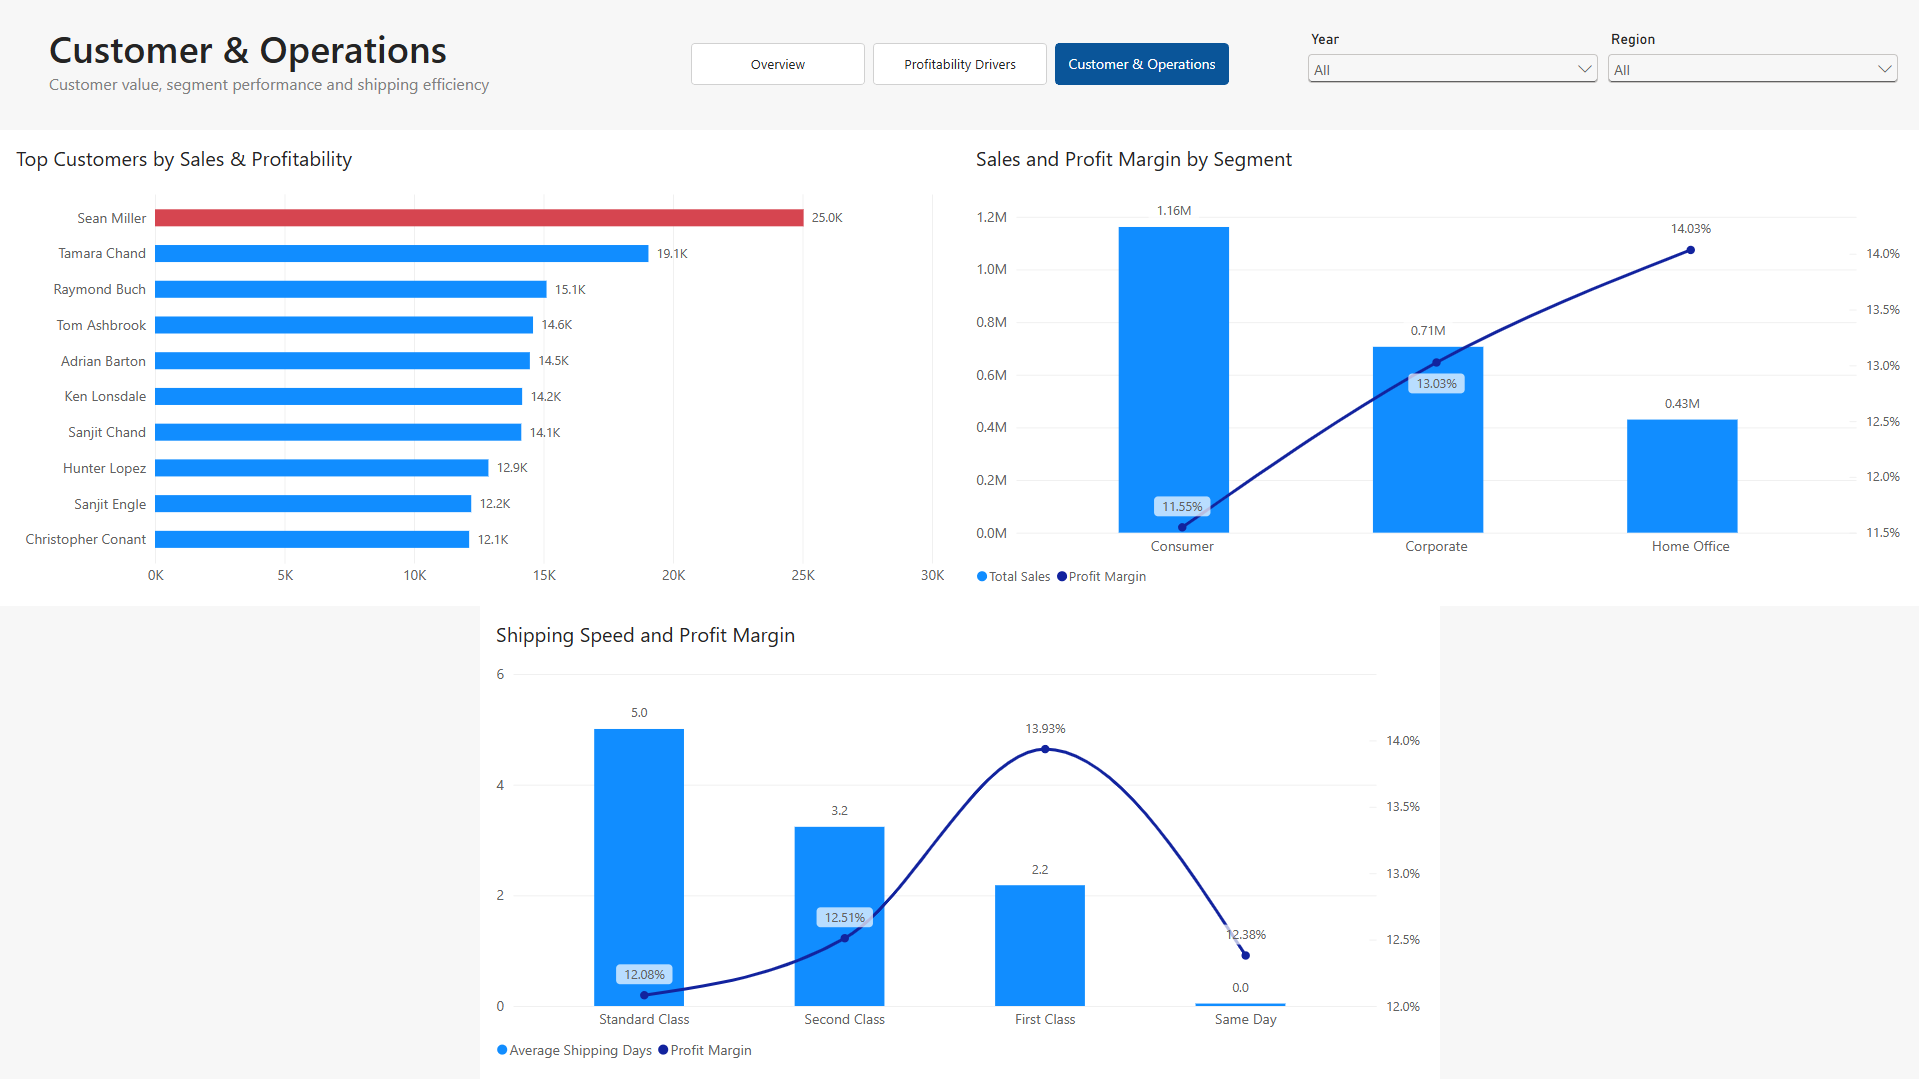

The page's visual inventory and layout, read from the dashboard file:
{"tool":"powerbi","page":{"name":"Customer & Operations","canvas":[1920,1080],"ordinal":2},"visuals":[{"type":"barChart","title":"Top Customers by Sales & Profitability","fields":{"Category":["Sales_Data.Customer_Name"],"Y":["Sales_Data.Total Sales"]},"box":[0,130,960,476],"z":0},{"type":"lineClusteredColumnComboChart","title":"Sales and Profit Margin by Segment","fields":{"Category":["Sales_Data.Segment"],"Y":["Sales_Data.Total Sales"],"Y2":["Sales_Data.Profit Margin"]},"box":[960,130,960,476],"z":1000},{"type":"lineClusteredColumnComboChart","title":"Shipping Speed and Profit Margin","fields":{"Category":["Sales_Data.Ship_Mode"],"Y":["Sales_Data.Average Shipping Days"],"Y2":["Sales_Data.Profit Margin"]},"box":[480,605.6,960,474.4],"z":2000},{"type":"pageNavigator","box":[691,43,538,42],"z":3000},{"type":"slicer","fields":{"Values":["Date_Table.Year"]},"box":[1303,31,300,65.7],"z":4000},{"type":"slicer","fields":{"Values":["Sales_Data.Region"]},"box":[1603,31,300,66],"z":5000},{"type":"textbox","box":[49,23,507,50],"z":6000},{"type":"textbox","box":[49,73,602,24],"z":7000}]}

Visuals, with their boxes in screenshot pixels (x1, y1, x2, y2), scaled from the page's 1920x1080 canvas onto the 1919x1079 screenshot:
"Top Customers by Sales & Profitability" barChart: detection(0, 130, 960, 605)
"Sales and Profit Margin by Segment" lineClusteredColumnComboChart: detection(960, 130, 1918, 605)
"Shipping Speed and Profit Margin" lineClusteredColumnComboChart: detection(480, 605, 1439, 1078)
pageNavigator: detection(691, 43, 1228, 85)
slicer - Date_Table.Year: detection(1302, 31, 1602, 97)
slicer - Sales_Data.Region: detection(1602, 31, 1902, 97)
textbox: detection(49, 23, 556, 73)
textbox: detection(49, 73, 651, 97)
